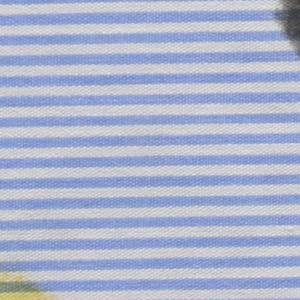Stain: (272, 1, 300, 61), (1, 269, 54, 300)
